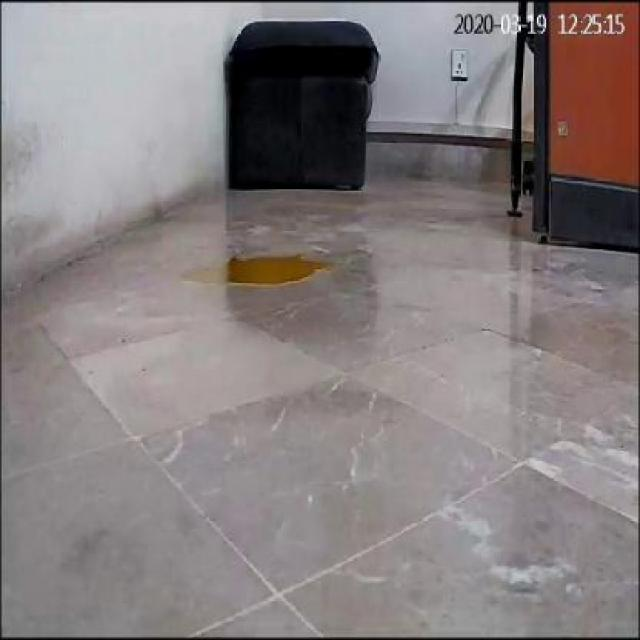spill: (182, 256, 332, 290)
